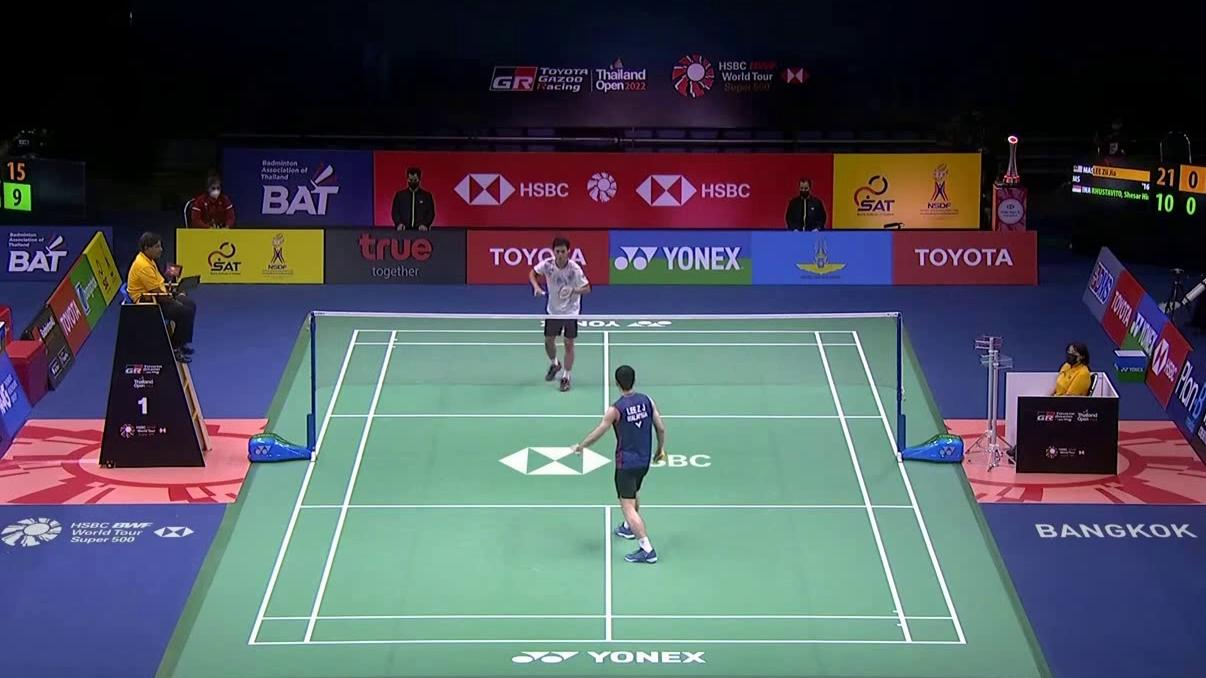racket: (534, 284, 573, 299)
shuttle: (572, 443, 583, 455)
